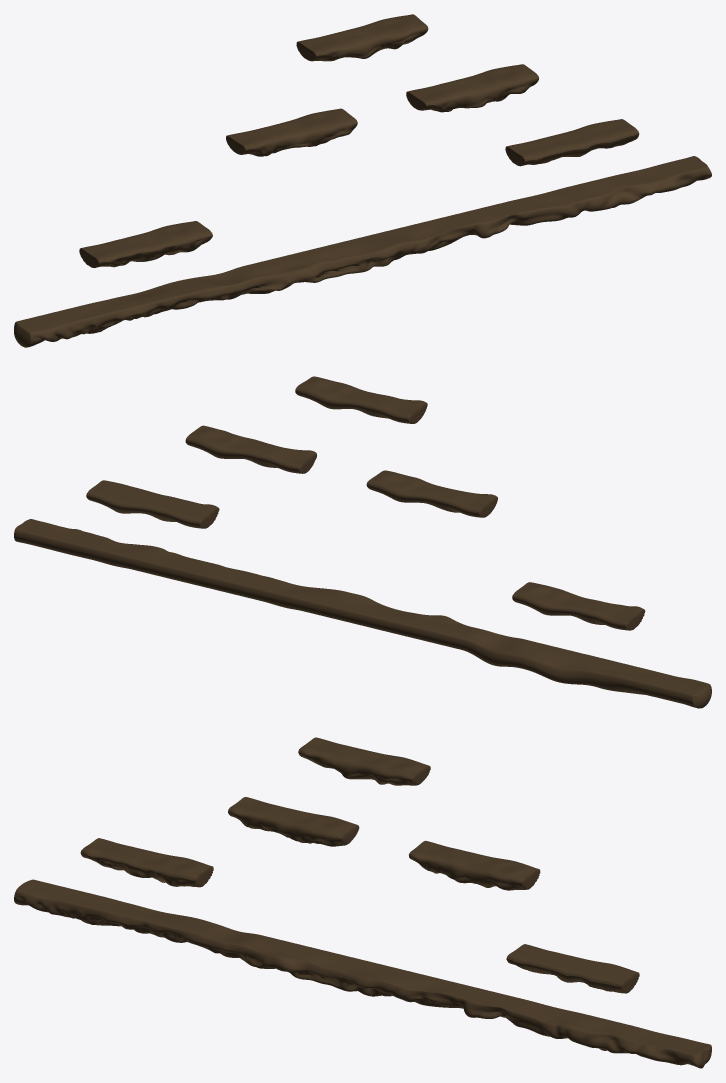
Rendered from platformwood.fbx.
The picture shows the model from 3 angles, top to bottom: view 1: azimuth 30°, elevation 25°; view 2: azimuth 150°, elevation 25°; view 3: azimuth 330°, elevation 25°; orthographic projection.
Visible parts, largest first — view 1: Cylinder, Cylinder.004, Cylinder.003, Cylinder.005, Cylinder.002, Cylinder.001; view 2: Cylinder, Cylinder.001, Cylinder.002, Cylinder.005, Cylinder.004, Cylinder.003; view 3: Cylinder, Cylinder.004, Cylinder.005, Cylinder.003, Cylinder.002, Cylinder.001.
Boxes of the visible parts, x1,y1,x2,y2 form: Cylinder: (14,156,711,347); Cylinder.004: (406,64,538,112); Cylinder.003: (226,108,357,156); Cylinder.005: (296,14,428,61); Cylinder.002: (79,221,212,267); Cylinder.001: (505,119,639,166); Cylinder: (14,519,711,708); Cylinder.001: (86,480,219,528); Cylinder.002: (512,582,645,630); Cylinder.005: (295,376,427,423); Cylinder.004: (185,425,316,473); Cylinder.003: (366,470,497,517); Cylinder: (14,879,711,1068); Cylinder.004: (409,840,540,890); Cylinder.005: (298,737,430,785); Cylinder.003: (228,797,359,846); Cylinder.002: (80,838,213,887); Cylinder.001: (506,944,639,993).
Size of the model in its own units: 6685 by 2177 by 444.
